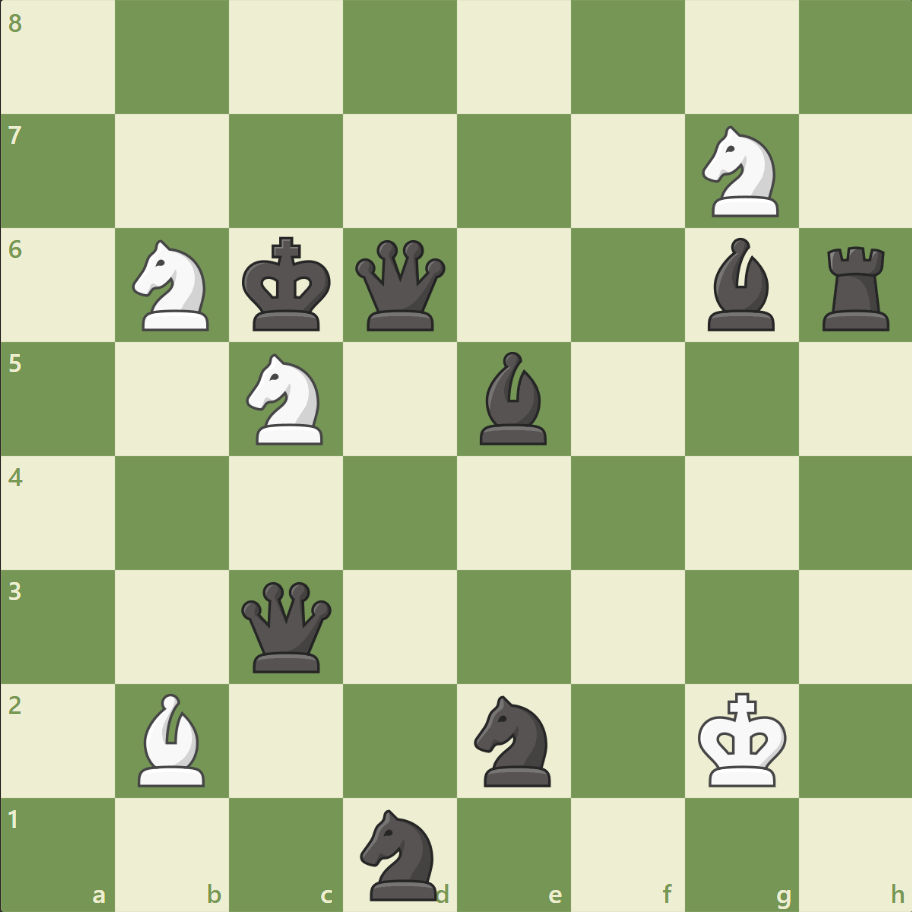B: (131, 687, 215, 790)
K: (692, 685, 792, 793)
N: (124, 234, 222, 337), (692, 121, 789, 223), (238, 348, 335, 450)
b: (698, 233, 782, 336), (471, 347, 555, 449)
k: (238, 231, 338, 339)
n: (351, 802, 449, 904), (465, 688, 562, 791)
q: (237, 576, 336, 676), (351, 236, 450, 335)
r: (814, 239, 897, 336)
